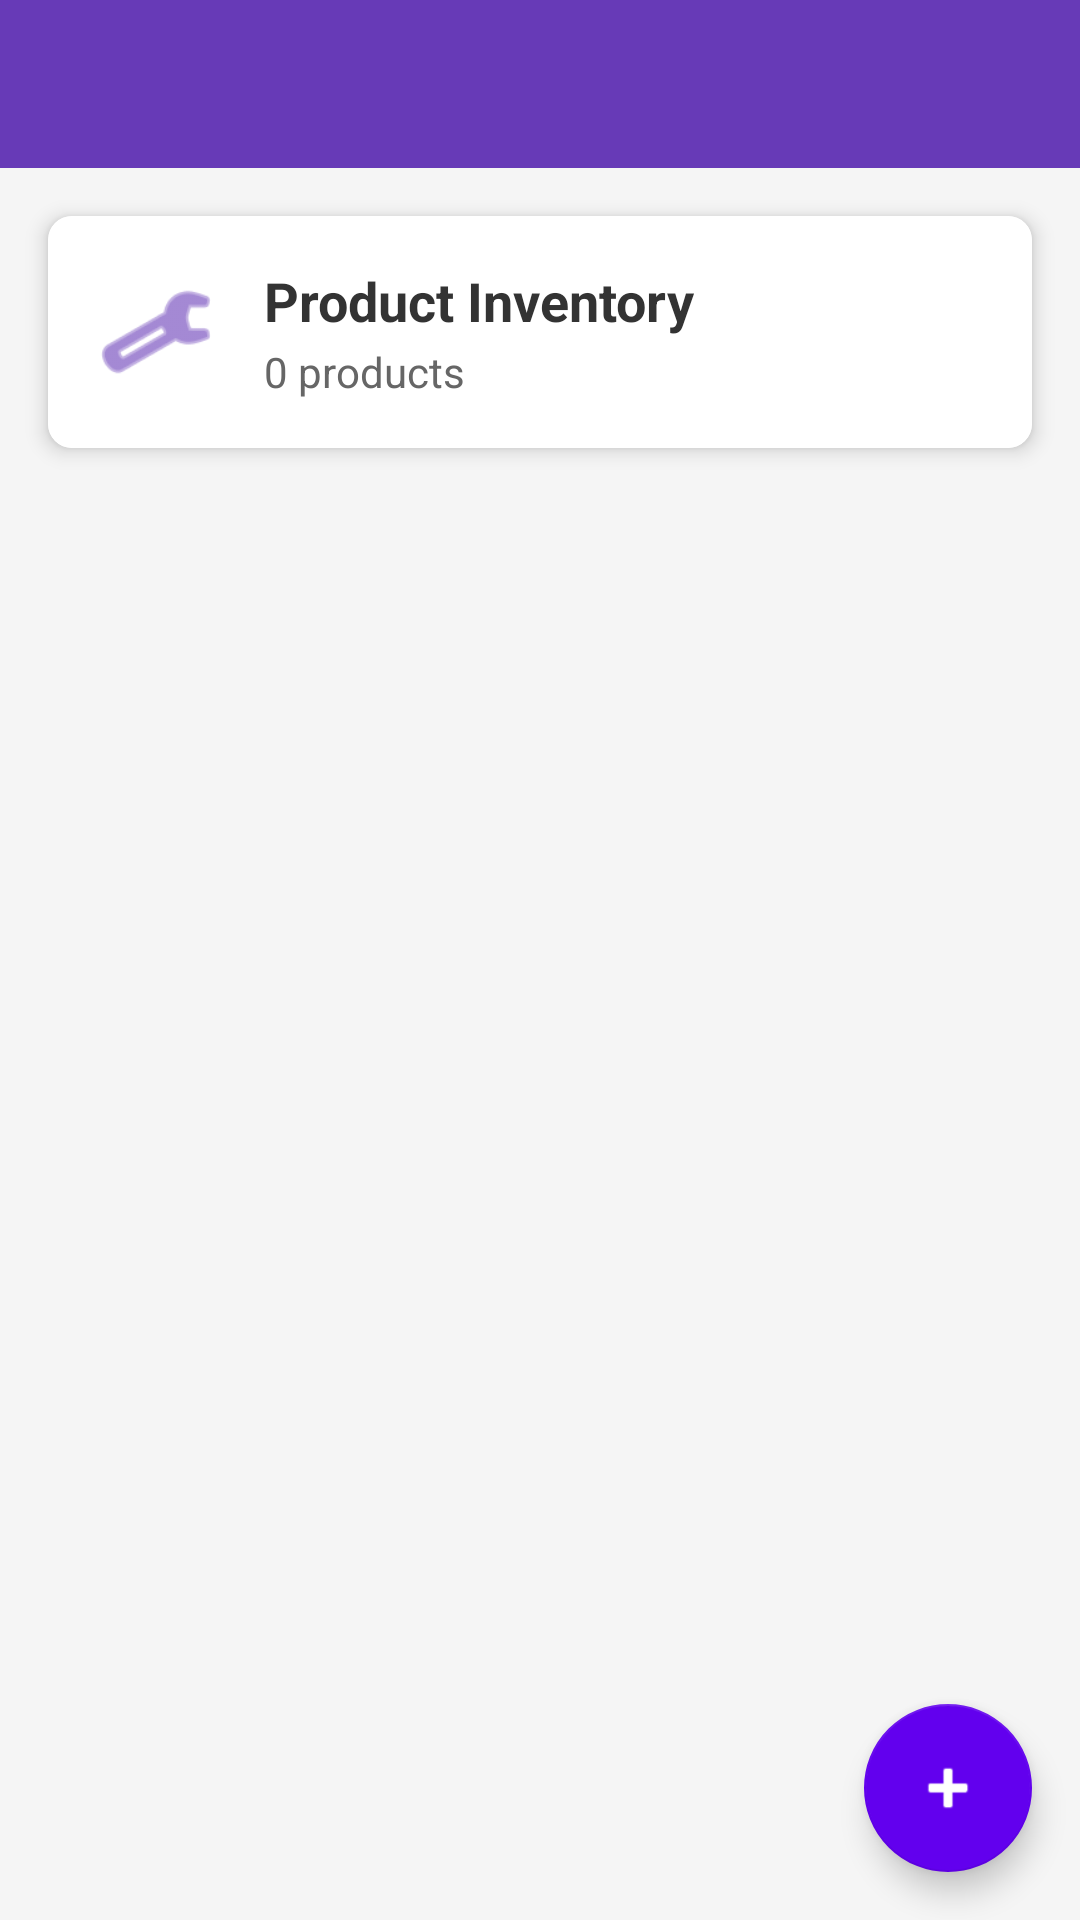

Icons on this 1080×1920 Android screen, each with the point to tap as (x,y):
add: (948,1788)
manage: (156,332)
